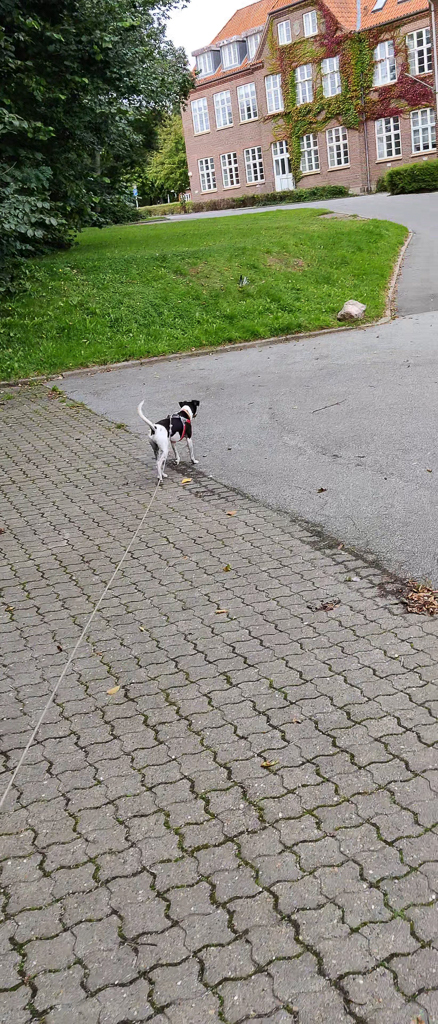Dog: (131, 392, 210, 487)
